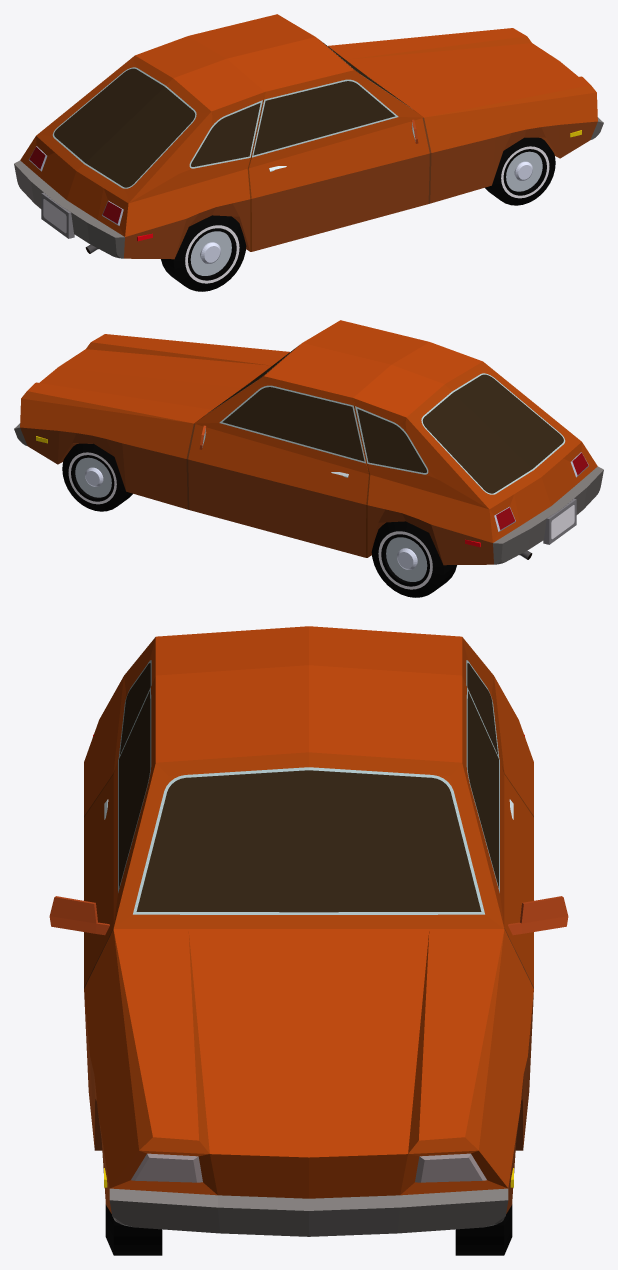
The model's file is pinto.fbx.
The picture shows the model from 3 angles, top to bottom: view 1: azimuth 30°, elevation 25°; view 2: azimuth 150°, elevation 25°; view 3: azimuth 270°, elevation 25°; orthographic projection. The views are drawn at different scales.
Parts seen in each view (by area): view 1: Cube.001; view 2: Cube.001; view 3: Cube.001.
Boxes of the visible parts, x1,y1,x2,y2 form: Cube.001: (14, 14, 603, 291); Cube.001: (14, 320, 603, 597); Cube.001: (49, 626, 568, 1255).
Size of the model in its own units: 650 by 216 by 288.
